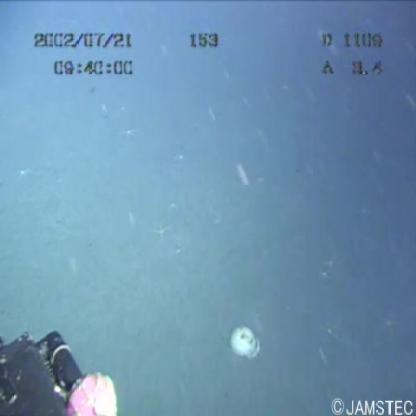Rov: (1, 322, 119, 416)
Rác: (218, 326, 270, 362)
